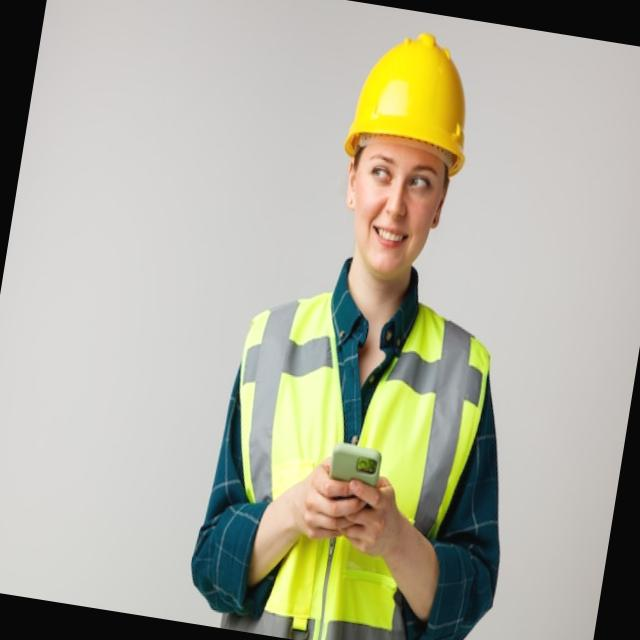helmet: (336, 12, 488, 184)
no-goggles: (348, 150, 454, 212)
vest: (206, 240, 531, 640)
